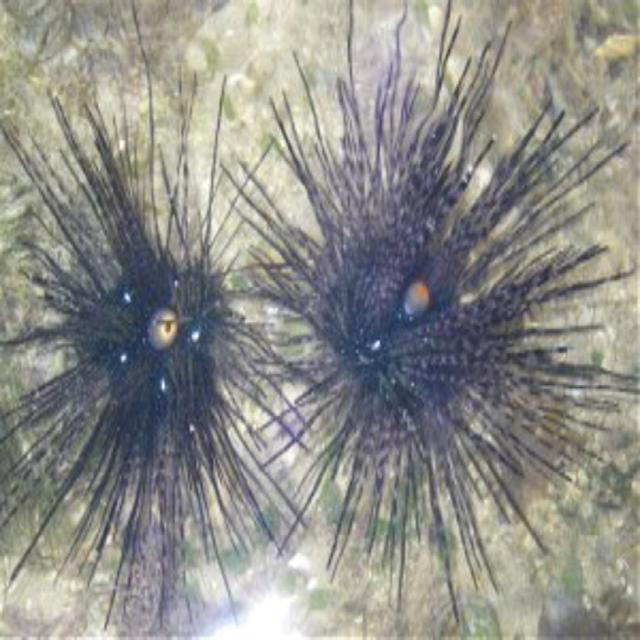Urchin: (217, 14, 620, 594), (1, 42, 317, 599)
